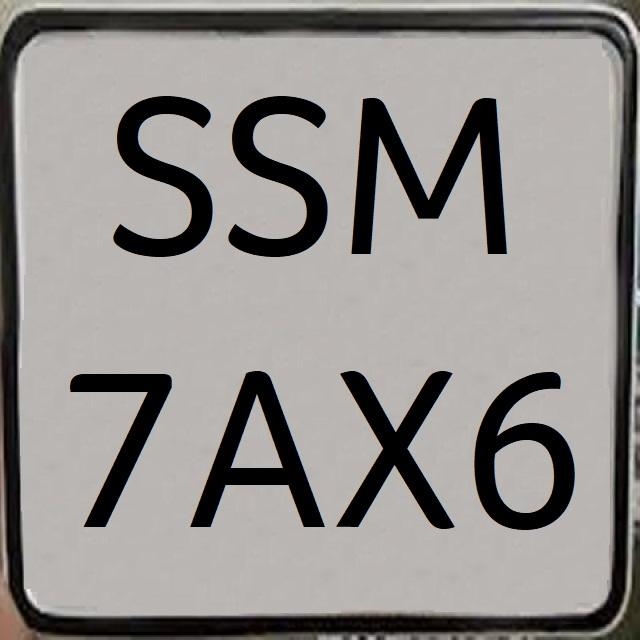A: (186, 336, 334, 550)
M: (352, 83, 518, 261)
S: (102, 74, 213, 260), (225, 72, 331, 256)
X: (332, 350, 455, 538)
